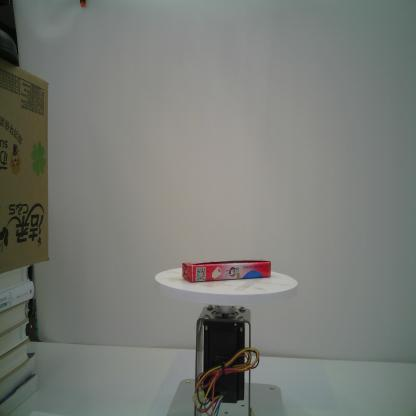Candy: (181, 258, 272, 283)
